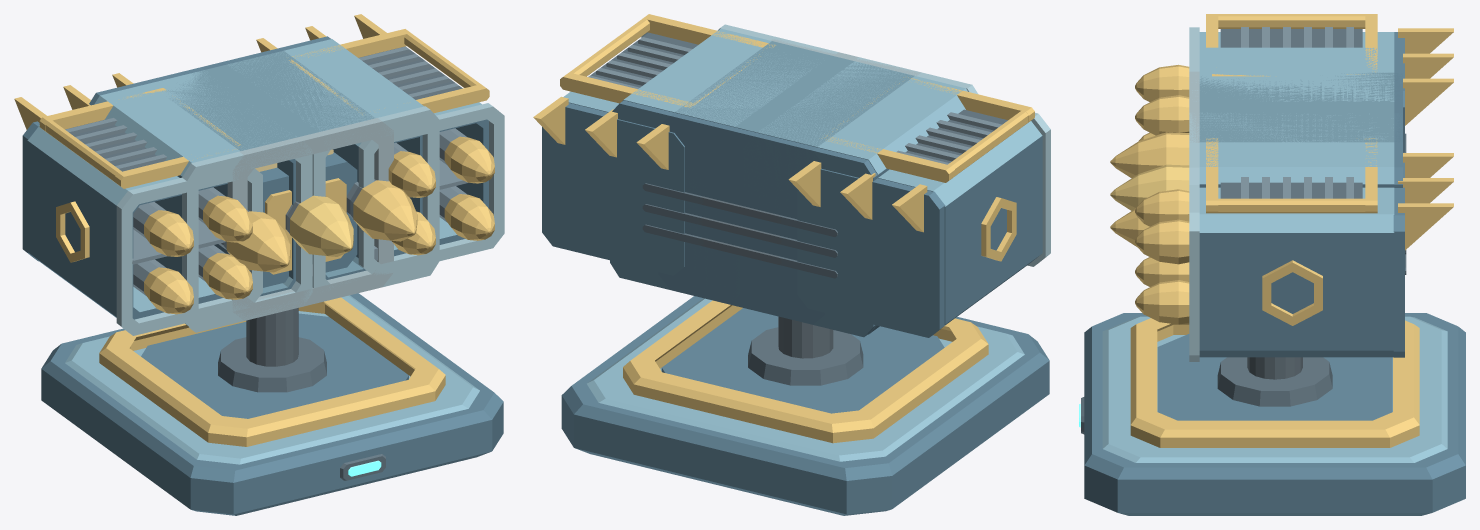
File: MissileTurret.fbx
3 views of the same model, side by side, from view 1: azimuth 30°, elevation 25°; view 2: azimuth 150°, elevation 25°; view 3: azimuth 270°, elevation 25° (orthographic). The views are drawn at different scales.
Parts seen in each view (by area): view 1: MissileTurret_Base, T3, T2, T1; view 2: T3, MissileTurret_Base, T1, T2; view 3: MissileTurret_Base, T3, T2, T1.
Boxes of the visible parts, x1=… form: MissileTurret_Base: x1=41, y1=293, x2=503, y2=515; T3: x1=14, y1=14, x2=504, y2=335; T2: x1=89, y1=36, x2=439, y2=332; T1: x1=145, y1=48, x2=393, y2=320; T3: x1=533, y1=14, x2=1050, y2=337; MissileTurret_Base: x1=561, y1=296, x2=1049, y2=515; T1: x1=658, y1=39, x2=920, y2=324; T2: x1=610, y1=24, x2=977, y2=337; MissileTurret_Base: x1=1079, y1=313, x2=1465, y2=515; T3: x1=1135, y1=14, x2=1453, y2=361; T2: x1=1110, y1=47, x2=1406, y2=274; T1: x1=1110, y1=71, x2=1402, y2=210.
Bounding box in the file's own units: 2.69 × 2.1 × 2.21.
